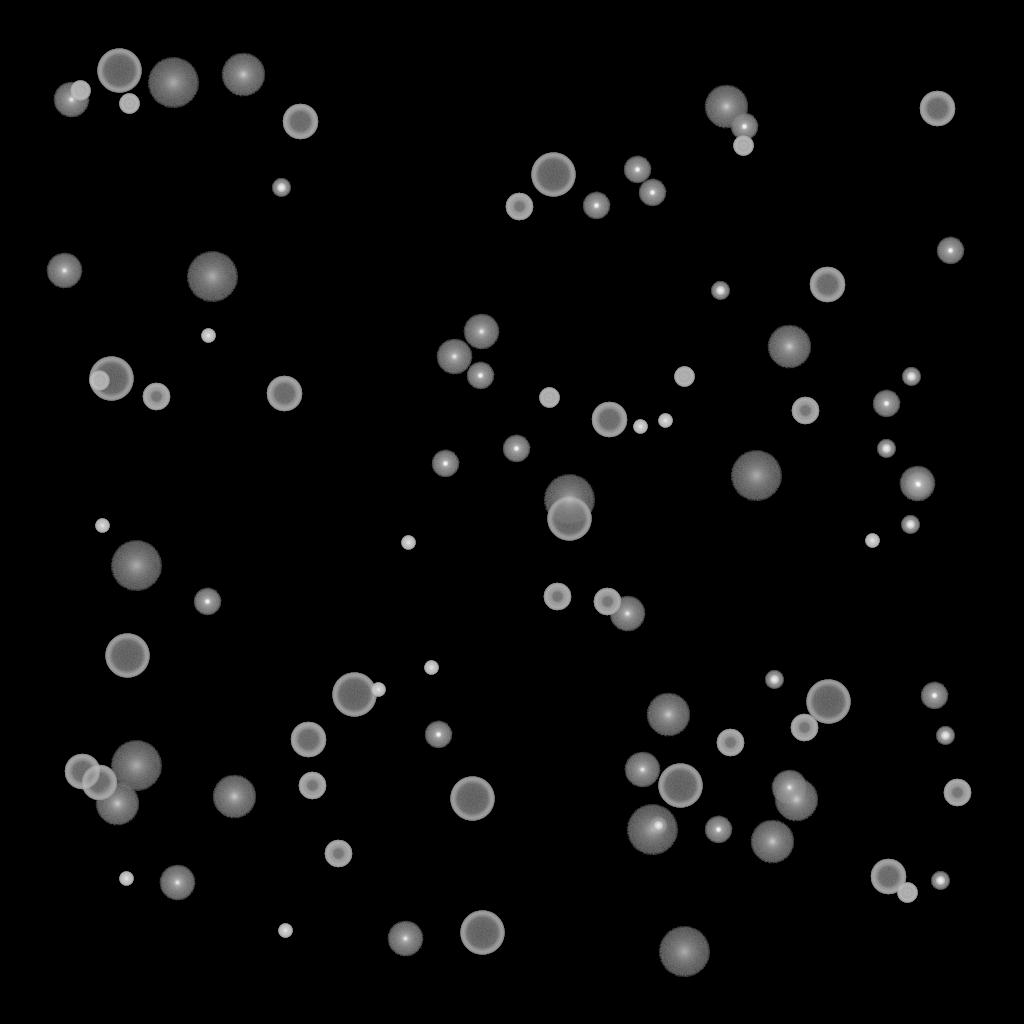depth:-10: (431, 450, 459, 478), (623, 156, 651, 184), (872, 390, 900, 418), (193, 588, 221, 616), (466, 362, 494, 390), (638, 179, 666, 207), (920, 682, 948, 710), (424, 721, 452, 749), (704, 816, 732, 844), (730, 113, 758, 141), (904, 471, 932, 499), (936, 237, 964, 265), (582, 192, 610, 220), (502, 435, 530, 463)
depth:-20: (711, 282, 729, 300), (765, 671, 783, 689), (272, 179, 290, 197), (931, 872, 949, 890), (901, 516, 919, 534), (649, 817, 667, 835), (877, 440, 895, 458), (936, 727, 954, 745), (902, 368, 920, 386)
depth:-30: (658, 414, 672, 428), (278, 924, 292, 938), (633, 420, 647, 434), (119, 872, 133, 886), (201, 329, 215, 343), (95, 519, 109, 533), (371, 683, 385, 697), (865, 534, 879, 548), (424, 661, 438, 675), (401, 536, 415, 550)
depth:-40: (674, 367, 694, 387), (70, 81, 90, 101), (897, 883, 917, 903), (539, 388, 559, 408), (119, 94, 139, 114), (733, 136, 753, 156), (89, 371, 109, 391)
depth:-50: (324, 840, 352, 868), (716, 729, 744, 757), (505, 193, 533, 221), (298, 772, 326, 800), (791, 397, 819, 425), (943, 779, 971, 807), (543, 583, 571, 611), (593, 588, 621, 616), (790, 714, 818, 742), (142, 383, 170, 411)
depth:-60: (919, 91, 955, 127), (282, 104, 318, 140), (64, 754, 100, 790), (870, 859, 906, 895), (591, 402, 627, 438), (809, 267, 845, 303), (266, 376, 302, 412), (290, 722, 326, 758), (81, 765, 117, 801)
depth:-70: (658, 764, 702, 808), (89, 357, 133, 401), (547, 497, 591, 541), (105, 634, 149, 678), (531, 153, 575, 197), (450, 777, 494, 821), (460, 911, 504, 955), (806, 680, 850, 724), (97, 49, 141, 93), (332, 673, 376, 717)
depth:0: (899, 466, 935, 502), (771, 770, 807, 806), (609, 596, 645, 632), (159, 865, 195, 901), (46, 253, 82, 289), (53, 82, 89, 118), (463, 314, 499, 350), (436, 339, 472, 375), (624, 752, 660, 788), (387, 921, 423, 957)
depth:10: (646, 693, 690, 737), (767, 325, 811, 369), (704, 85, 748, 129), (774, 778, 818, 822), (750, 820, 794, 864), (212, 775, 256, 819), (95, 782, 139, 826), (221, 53, 265, 97)
depth:20: (186, 252, 238, 302), (110, 541, 162, 591), (658, 927, 710, 977), (626, 805, 678, 855), (110, 741, 162, 791), (147, 58, 199, 108), (543, 475, 595, 525), (730, 451, 782, 501)
